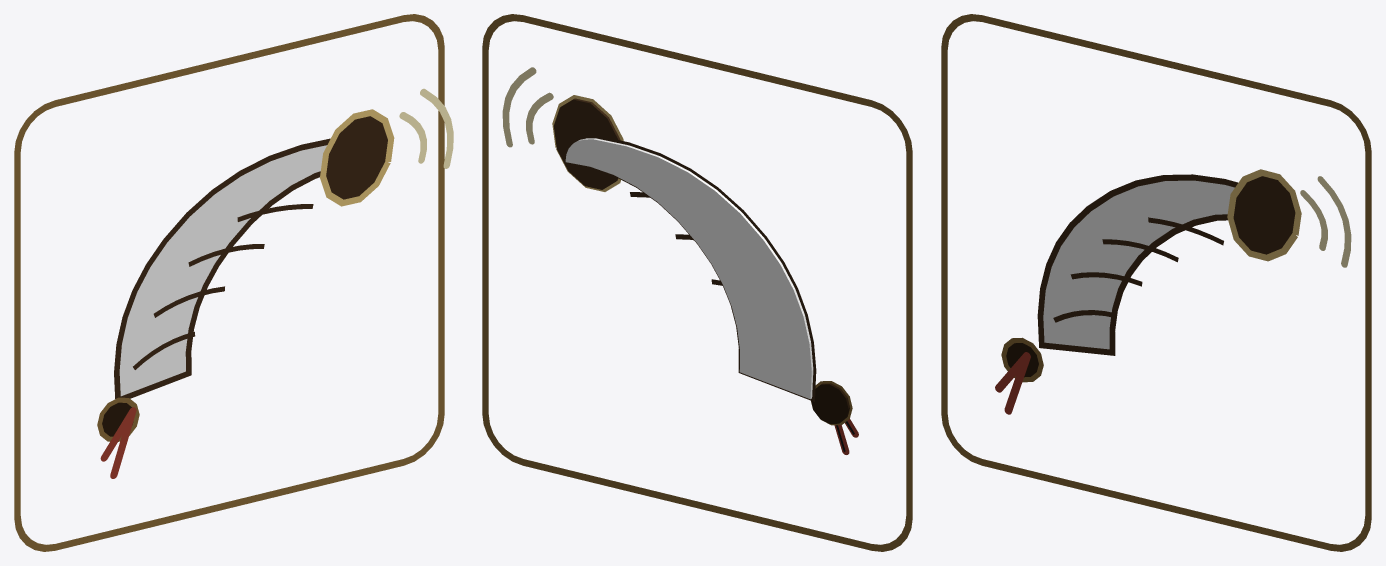
The model's file is obj-rog-glashataya.glb.
3 renders of one model, left to right at view 1: azimuth 30°, elevation 25°; view 2: azimuth 150°, elevation 25°; view 3: azimuth 330°, elevation 25°, orthographic.
Parts seen in each view (by area): view 1: obj-rog-glashataya; view 2: obj-rog-glashataya; view 3: obj-rog-glashataya.
Part boxes in pixels (x1=…): obj-rog-glashataya: x1=14, y1=14, x2=453, y2=551; obj-rog-glashataya: x1=482, y1=14, x2=912, y2=551; obj-rog-glashataya: x1=941, y1=14, x2=1371, y2=551.
Size of the model in its own units: 0.3808 by 0.3808 by 0.0251.
